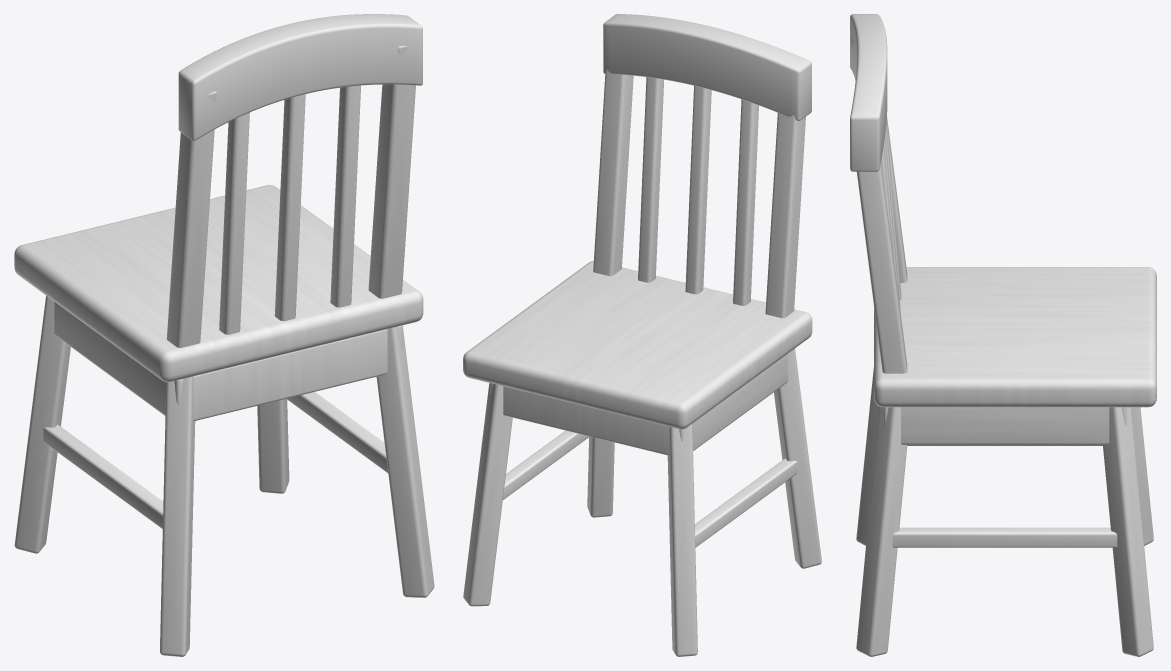
The model's file is dining-chair-classic.glb.
3 views of the same model, side by side, from view 1: azimuth 30°, elevation 25°; view 2: azimuth 150°, elevation 25°; view 3: azimuth 270°, elevation 25° (orthographic). The views are drawn at different scales.
Parts seen in each view (by area): view 1: Houseit sewn upholstery; view 2: Houseit sewn upholstery; view 3: Houseit sewn upholstery.
Boxes of the visible parts, bbox=[...] form: Houseit sewn upholstery: bbox=[14, 14, 434, 656]; Houseit sewn upholstery: bbox=[463, 14, 821, 656]; Houseit sewn upholstery: bbox=[850, 14, 1156, 656].
Size of the model in its own units: 0.4476 by 0.9305 by 0.4719.
1 material, 1 textured.
